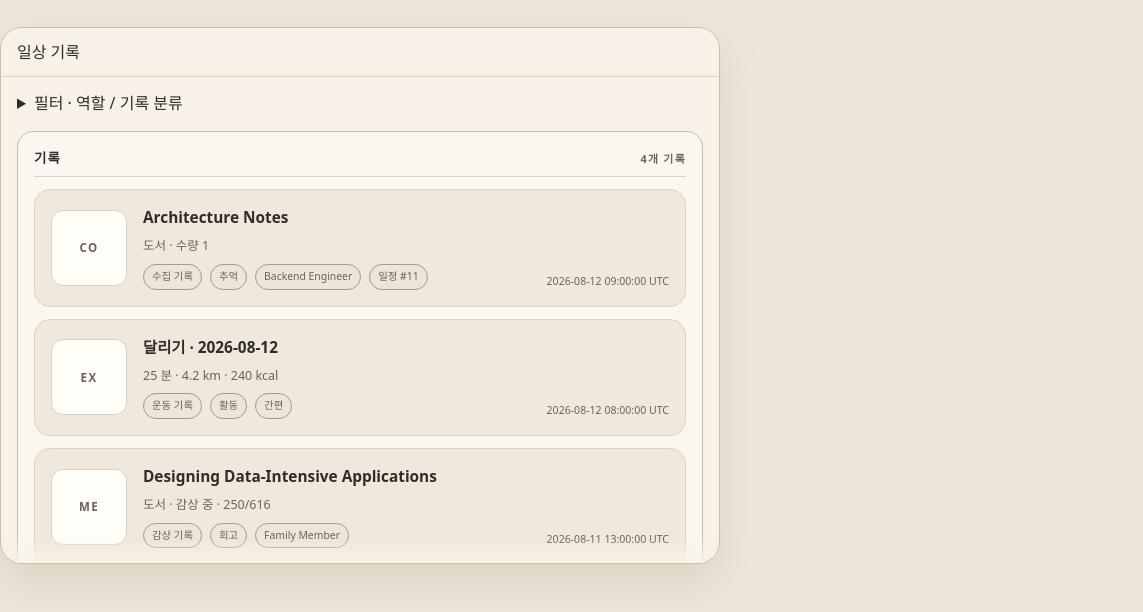
Scenario: LifeLog Journal consumer surface › does not reopen stale detail after leaving and returning
Click the button with test id "journal-entry" that starts with "Architecture Notes".
click(89, 247)  # box [34,189,686,306]
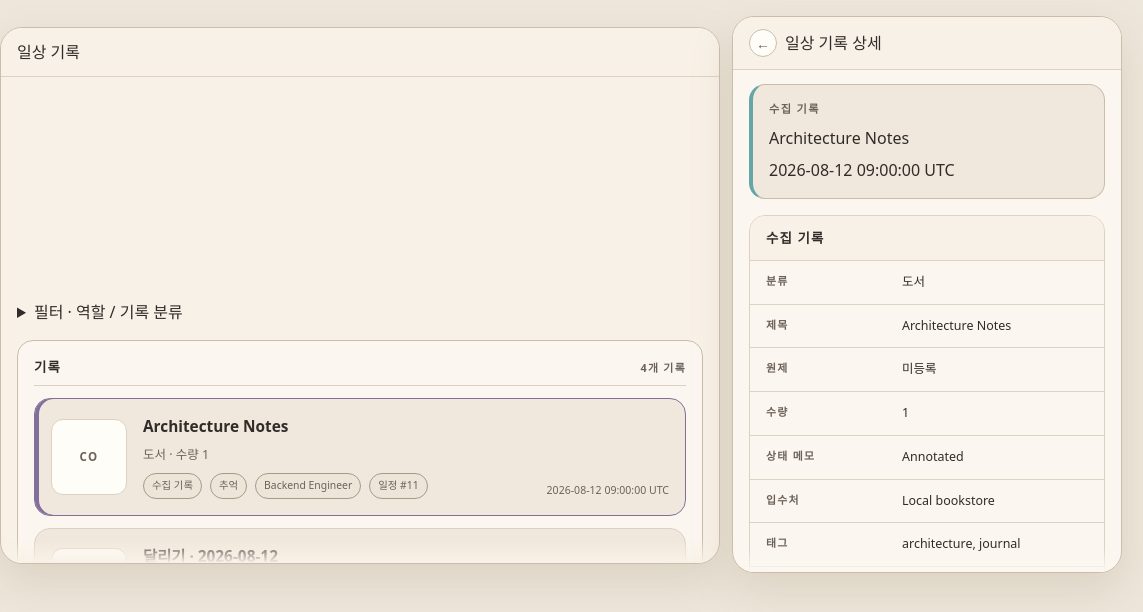
Expected: the text "Annotated" is shown, [902,448,964,465]
